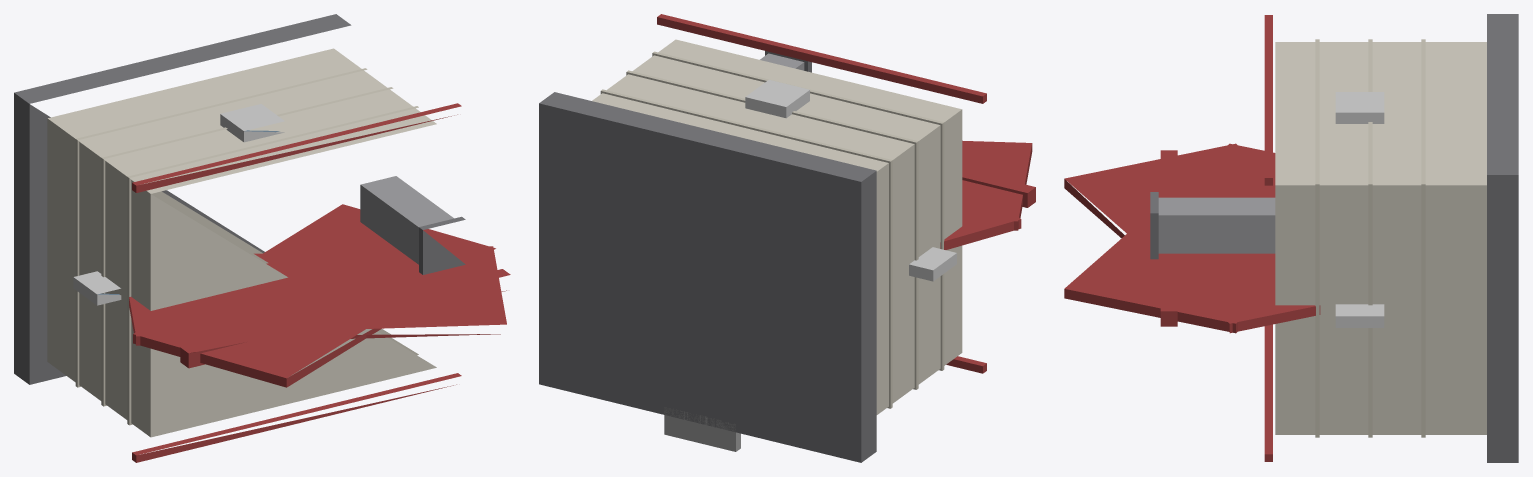
Rendered from house.glb.
3 renders of one model, left to right at view 1: azimuth 30°, elevation 25°; view 2: azimuth 150°, elevation 25°; view 3: azimuth 270°, elevation 25°, orthographic. The views are drawn at different scales.
Parts seen in each view (by area): view 1: geometry_0; view 2: geometry_0; view 3: geometry_0.
Boxes of the visible parts, x1,y1,x2,y2 form: geometry_0: (14,14,510,462); geometry_0: (539,14,1035,462); geometry_0: (1064,14,1518,462).
Bounding box in the file's own units: 2.01 × 1.61 × 2.15.
